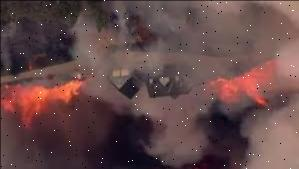fire: (1, 76, 84, 133), (210, 54, 280, 114)
